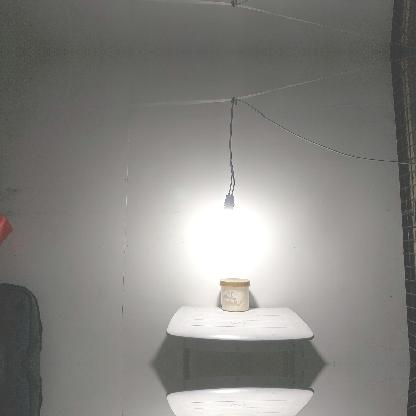Lady-s-Choice: (218, 277, 250, 311)
